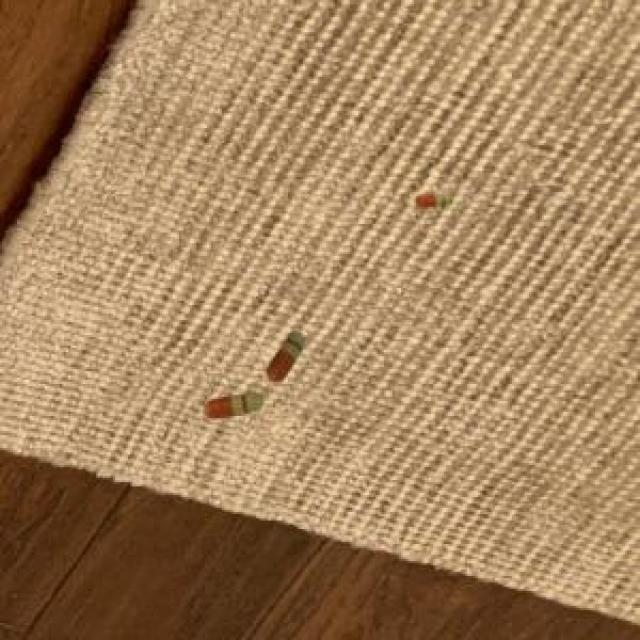Alaxan: (262, 329, 310, 384), (202, 390, 266, 426), (405, 190, 459, 215)
